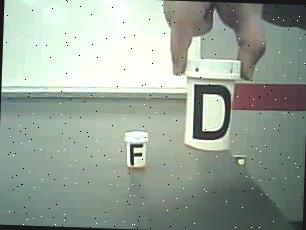Bottle D: (179, 52, 243, 161)
Bottle F: (121, 128, 152, 174)
